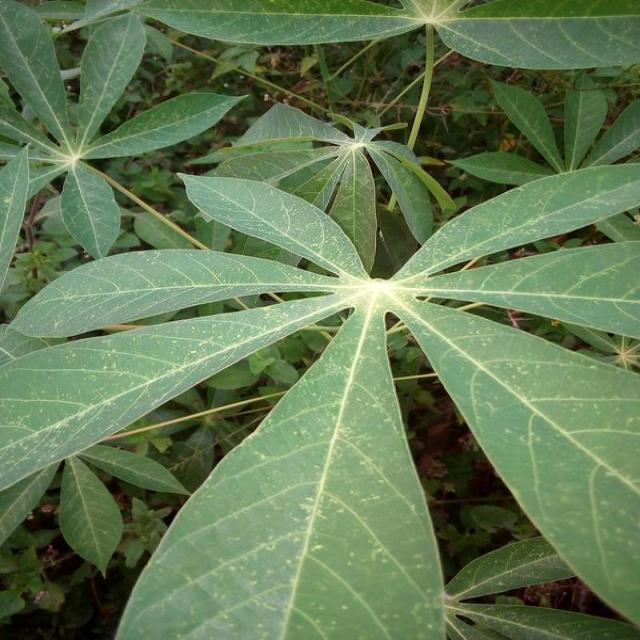cassava leaf: (1, 2, 638, 637), (114, 295, 446, 638), (388, 292, 639, 627)
